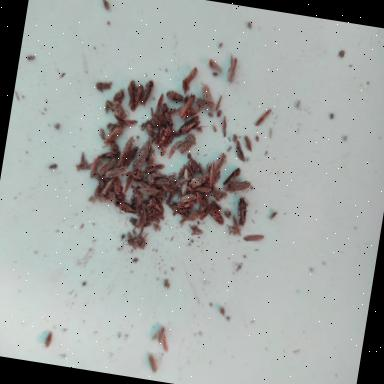pbw: (110, 199, 137, 225), (118, 134, 133, 170), (178, 113, 200, 137), (222, 178, 250, 196), (178, 93, 196, 120), (154, 123, 172, 150), (198, 85, 217, 110), (143, 196, 166, 216), (224, 52, 238, 84), (188, 170, 208, 192), (204, 204, 224, 226), (104, 101, 127, 120), (104, 124, 122, 148), (139, 78, 154, 106), (177, 134, 196, 156), (180, 66, 196, 92), (130, 84, 144, 113), (136, 201, 150, 230), (222, 166, 240, 188), (105, 164, 126, 182), (168, 202, 189, 218), (126, 234, 146, 250), (116, 114, 136, 130), (126, 80, 138, 106), (147, 106, 160, 128), (94, 80, 113, 95), (154, 90, 164, 118), (144, 162, 164, 176), (110, 176, 124, 196), (234, 142, 248, 162), (101, 148, 120, 162), (146, 353, 159, 373), (161, 110, 175, 128), (168, 140, 180, 161), (207, 160, 216, 188), (88, 156, 98, 180), (102, 177, 114, 197), (75, 159, 93, 172), (195, 100, 214, 112), (164, 90, 183, 102), (180, 164, 194, 180), (218, 116, 228, 138), (178, 192, 196, 204), (178, 179, 190, 196), (160, 185, 177, 197), (194, 195, 206, 212), (138, 186, 158, 196), (122, 174, 132, 194), (212, 152, 222, 172), (133, 192, 142, 214), (187, 209, 201, 223), (188, 224, 203, 236), (160, 334, 170, 352), (156, 326, 166, 344), (242, 136, 252, 153), (112, 88, 122, 104), (132, 180, 151, 188), (194, 186, 212, 194), (176, 200, 190, 210), (80, 224, 84, 228)
